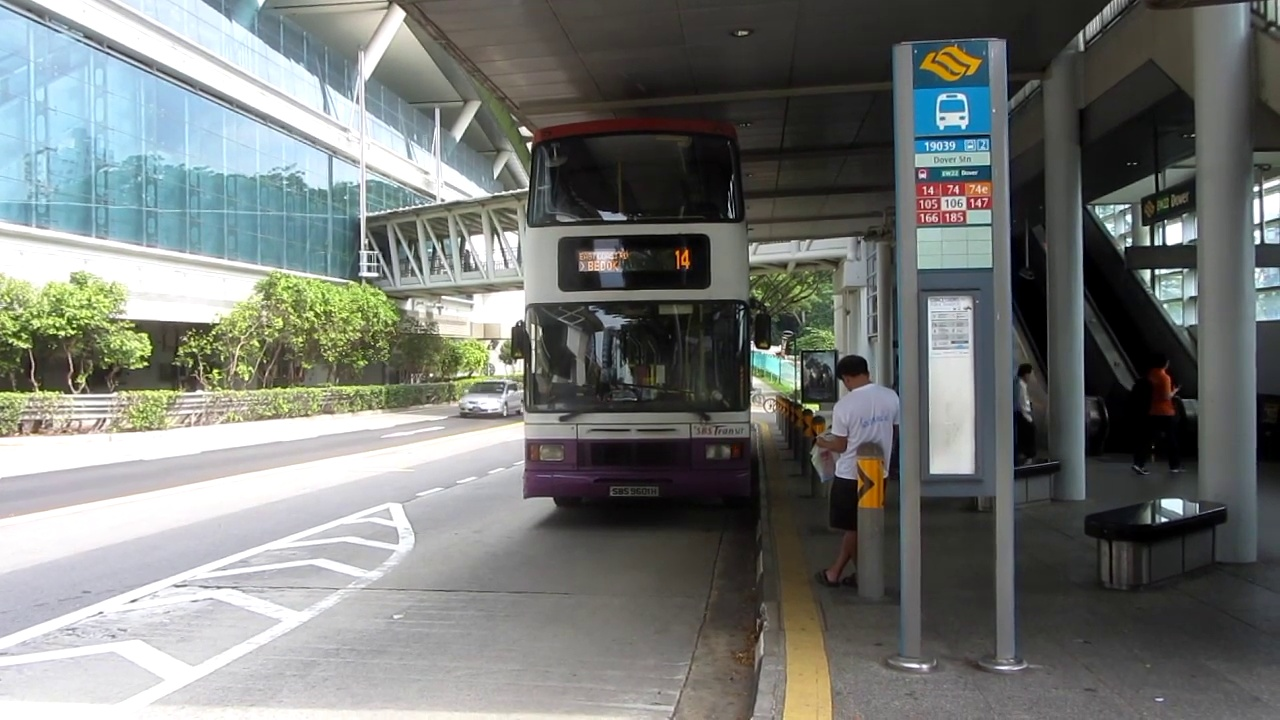bus panel: (574, 246, 697, 275)
